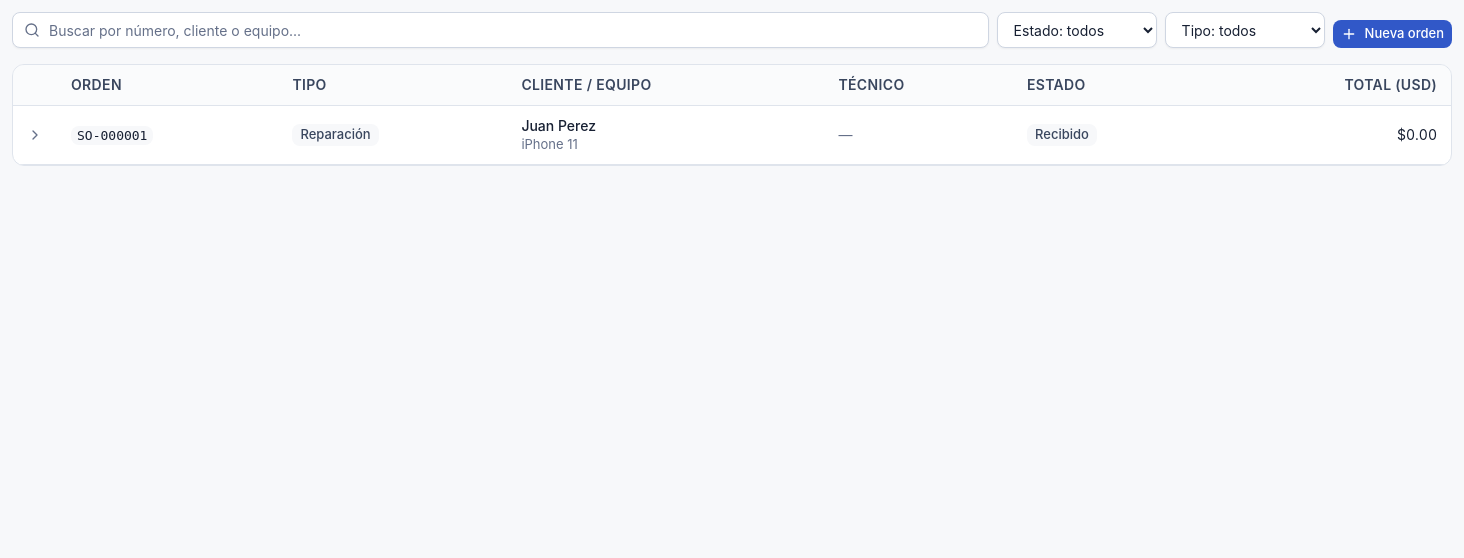
WorkshopManager › no muestra el formulario de diagnostico cuando la orden ya esta diagnosticada
What coordinates should you click on to do the following:
click the row with test id "workshop-row-1"
I would click on:
 (732, 135)
Its box is [13,106,1451,164].
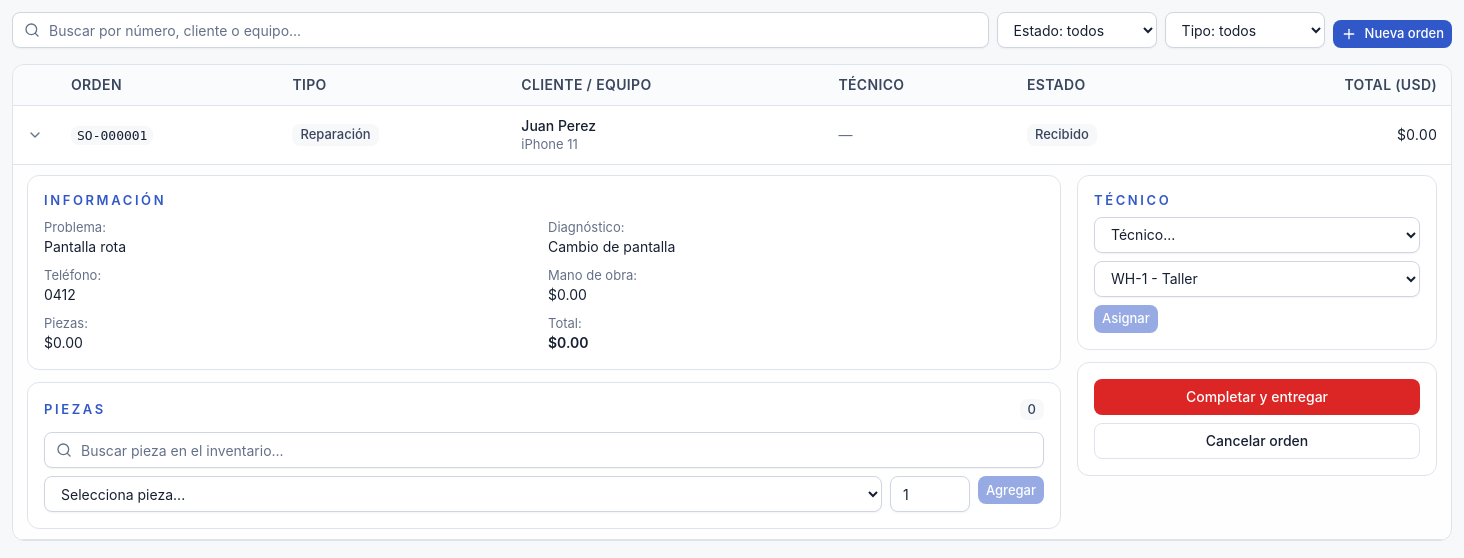
Now the text "Cambio de pantalla" is shown, box [548,238,675,255]
